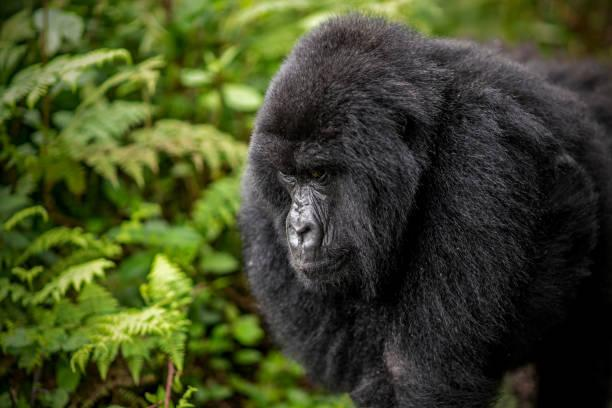goriile_montagne: (232, 0, 612, 408)
